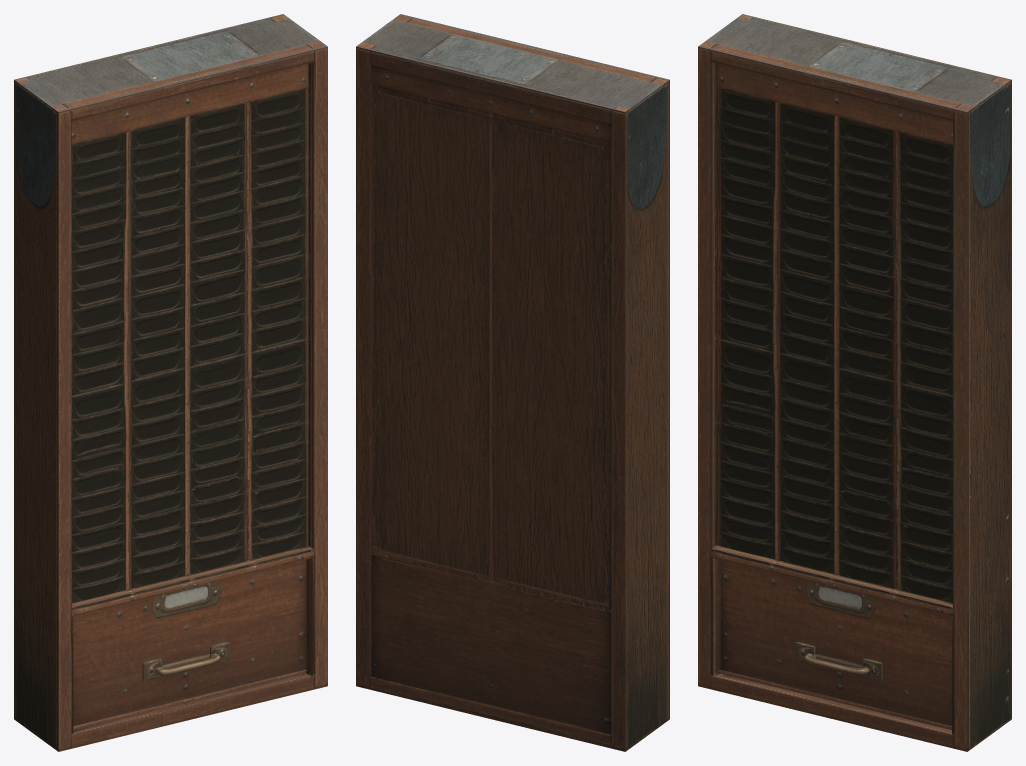
File: DocumentLocker.fbx
3 renders of one model, left to right at view 1: azimuth 30°, elevation 25°; view 2: azimuth 150°, elevation 25°; view 3: azimuth 330°, elevation 25°, orthographic.
Visible parts, largest first — view 1: DocumentLocker_Low; view 2: DocumentLocker_Low; view 3: DocumentLocker_Low.
Boxes of the visible parts, left/top/right/bottom form: DocumentLocker_Low: left=14, top=14, right=327, bottom=751; DocumentLocker_Low: left=356, top=14, right=669, bottom=751; DocumentLocker_Low: left=698, top=14, right=1011, bottom=751.
Bounding box in the file's own units: 1.2 × 2.72 × 0.344.
